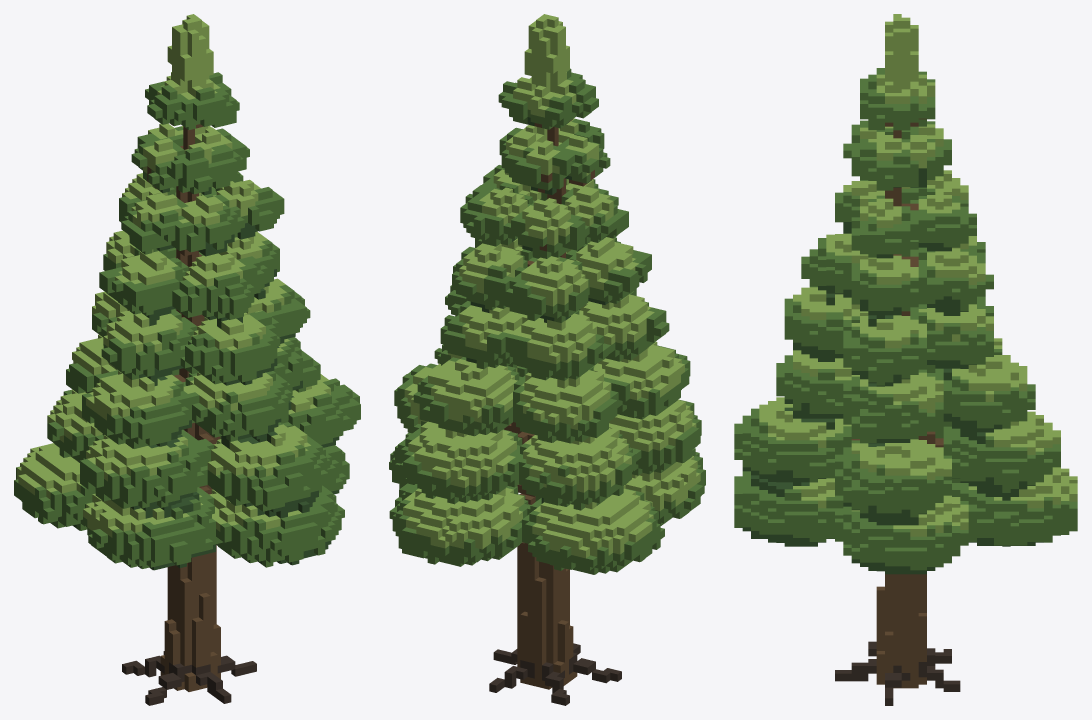
The model's file is tall_pine_v2_near.glb.
3 views of the same model, side by side, from view 1: azimuth 30°, elevation 25°; view 2: azimuth 150°, elevation 25°; view 3: azimuth 270°, elevation 25° (orthographic).
Visible parts, largest first — view 1: tall_pine_v2_near; view 2: tall_pine_v2_near; view 3: tall_pine_v2_near.
Part boxes in pixels (x1,y1,x2,y2): tall_pine_v2_near: [14, 14, 360, 705]; tall_pine_v2_near: [389, 14, 705, 705]; tall_pine_v2_near: [734, 14, 1077, 705].
Size of the model in its own units: 4.88 by 10.88 by 5.12.
Materials: 1 (1 with a texture image).
